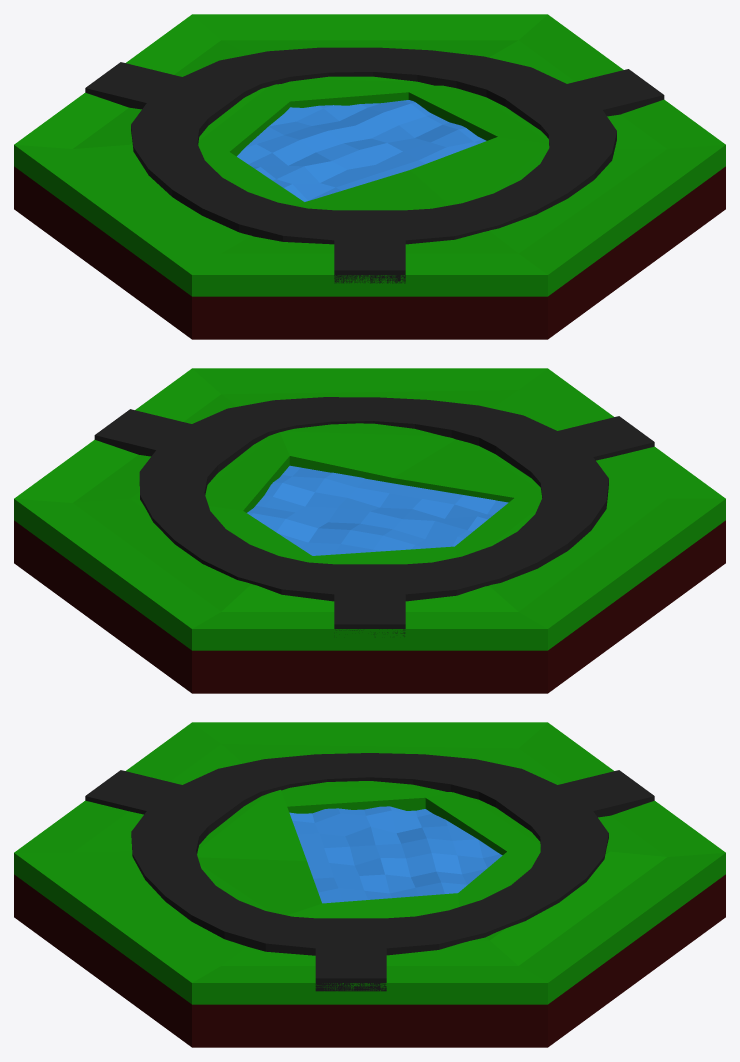
The model's file is Test_hex_2.fbx.
3 renders of one model, top to bottom at view 1: azimuth 30°, elevation 25°; view 2: azimuth 150°, elevation 25°; view 3: azimuth 270°, elevation 25°, orthographic.
Parts seen in each view (by area): view 1: Cylinder.001, Cube.005, Cylinder, Plane; view 2: Cylinder.001, Cube.005, Cylinder, Plane; view 3: Cylinder.001, Cube.005, Cylinder, Plane.
Part boxes in pixels (x1,y1,x2,y2): Cylinder.001: [14, 14, 725, 296]; Cube.005: [85, 47, 664, 283]; Cylinder: [14, 166, 725, 339]; Plane: [237, 100, 486, 201]; Cylinder.001: [14, 368, 725, 650]; Cube.005: [94, 397, 654, 637]; Cylinder: [14, 520, 725, 693]; Plane: [247, 465, 508, 555]; Cylinder.001: [14, 722, 725, 1004]; Cube.005: [85, 753, 654, 991]; Cylinder: [14, 874, 725, 1047]; Plane: [289, 806, 502, 903].
Bounding box in the file's own units: 2598 × 321 × 3000.
